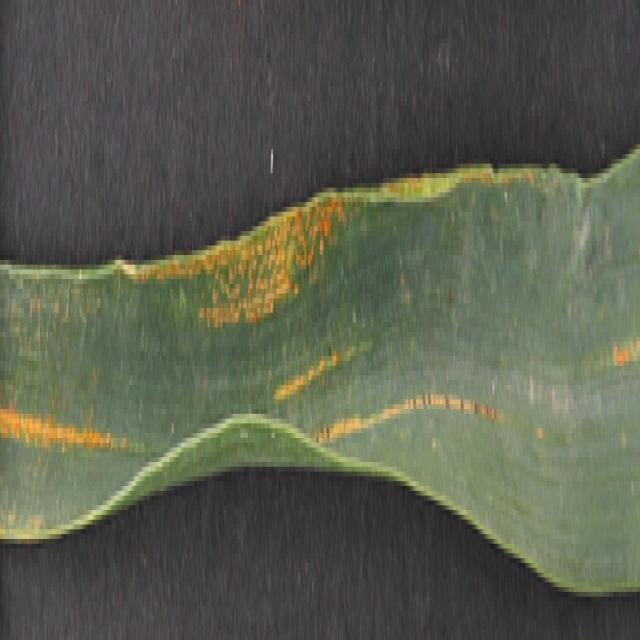leaf rust: (154, 202, 471, 467), (1, 371, 132, 481)
